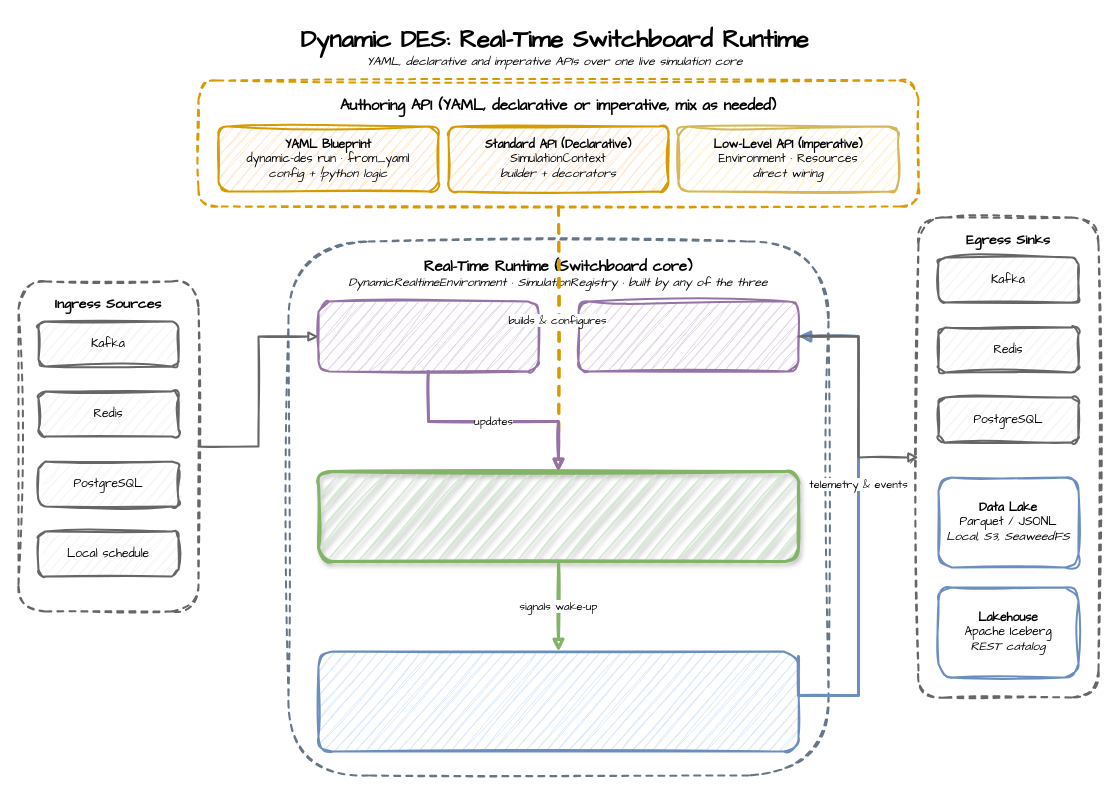
The diagram is 1116 pixels wide and 793 high, and some of its shapes have lost their labels. Each missing label, with the centre of its shape:
"Egress Connectors Pydantic payloads, orjson, batched" goes at [688,336].
"Ingress Connectors background I/O threads" goes at [428,336].
"Registry (Switchboard) central state, dot-notation paths" goes at [559,518].
"SimPy Resources DynamicResource passive observers, event-driven capacity" goes at [558,701].
